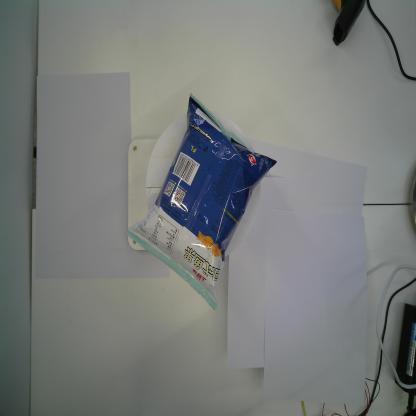Puffed Food: (124, 91, 278, 311)
